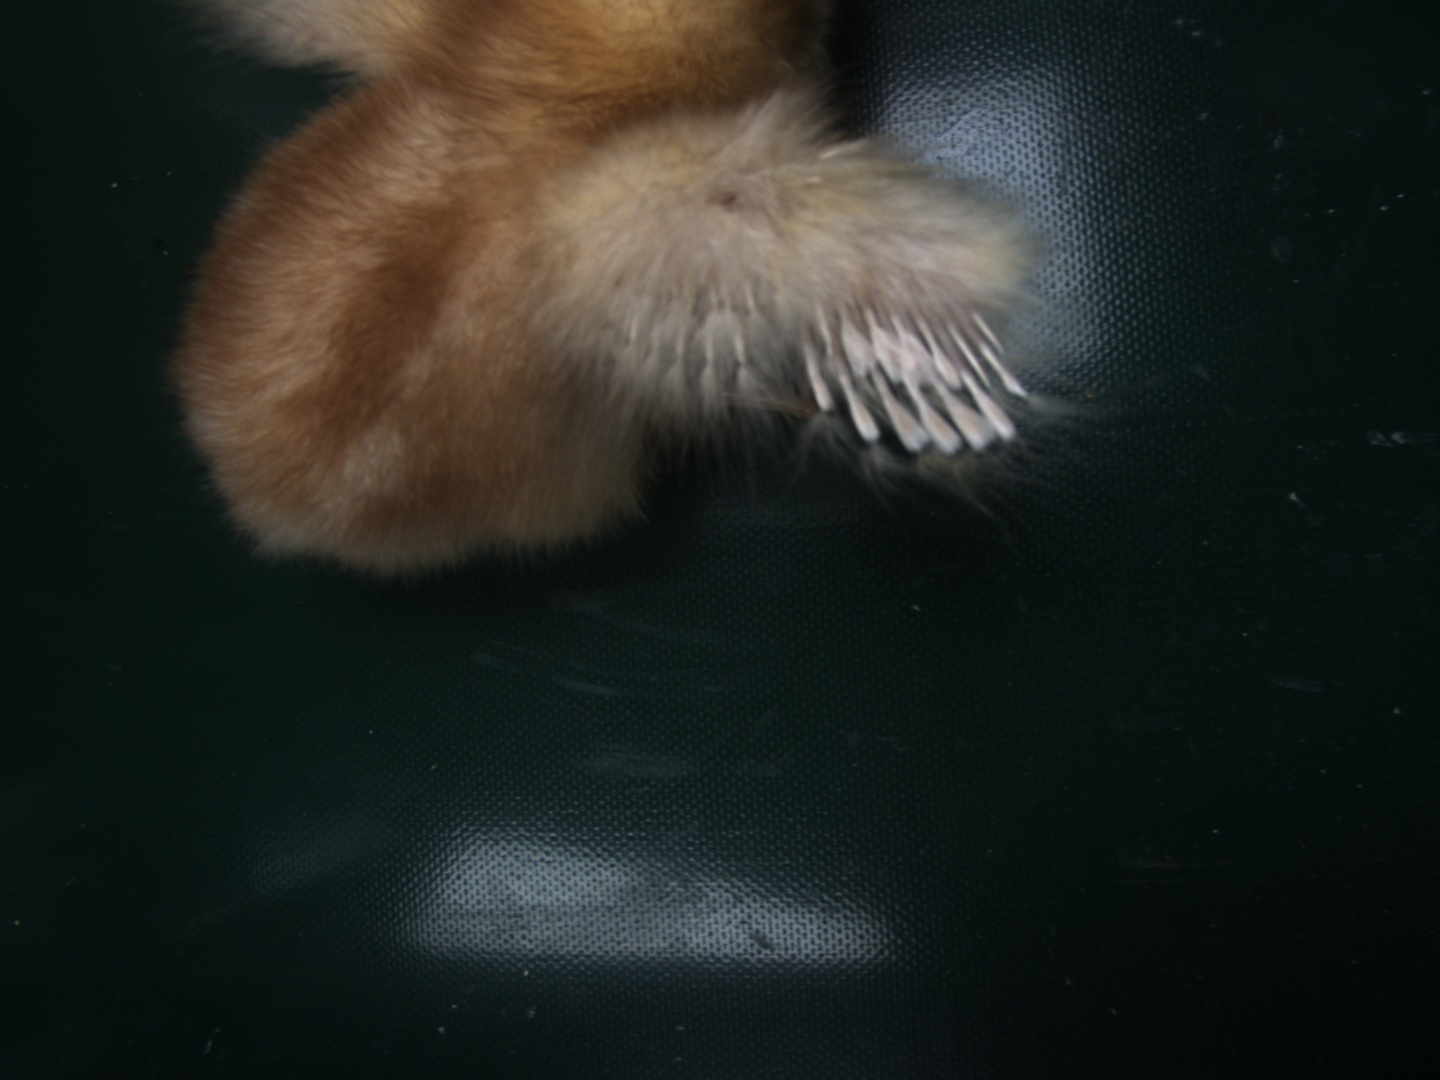female: (797, 282, 1030, 459)
